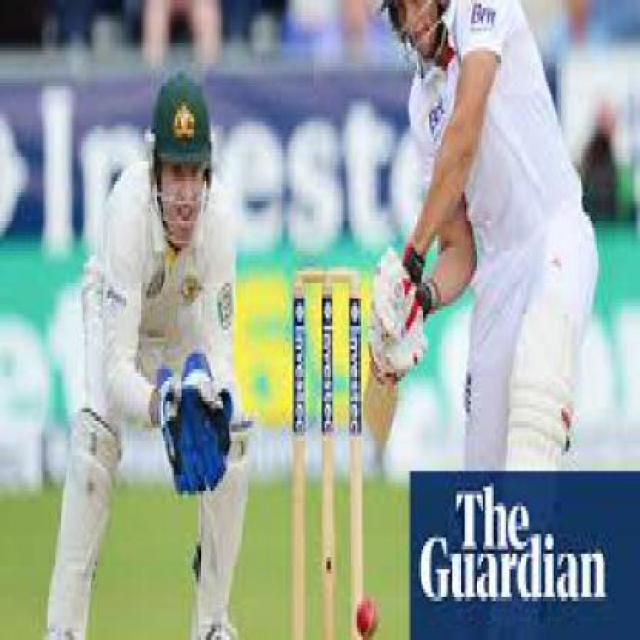ball: (331, 573, 404, 640)
